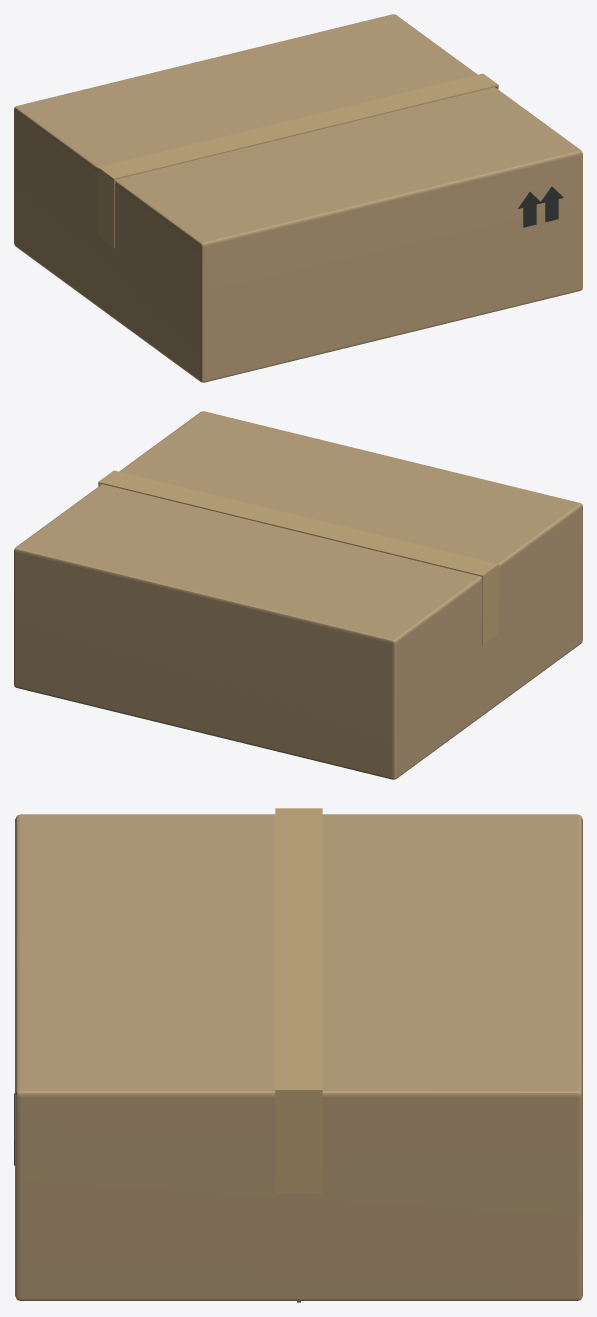
Rendered from industrial.yard.box_cardboard_flat.glb.
3 renders of one model, top to bottom at view 1: azimuth 30°, elevation 25°; view 2: azimuth 150°, elevation 25°; view 3: azimuth 270°, elevation 25°, orthographic. The views are drawn at different scales.
Parts seen in each view (by area): view 1: main__paint_ba7, main__paint_ca7, main__paint_333; view 2: main__paint_ba7, main__paint_ca7; view 3: main__paint_ba7, main__paint_ca7.
Boxes of the visible parts, x1,y1,x2,y2 form: main__paint_ba7: [14, 14, 582, 382]; main__paint_ca7: [98, 73, 498, 248]; main__paint_333: [518, 186, 563, 227]; main__paint_ba7: [14, 411, 582, 779]; main__paint_ca7: [98, 470, 498, 645]; main__paint_ba7: [15, 814, 582, 1300]; main__paint_ca7: [275, 808, 322, 1193].
Bounding box in the file's own units: 0.704 × 0.251 × 0.6011.
